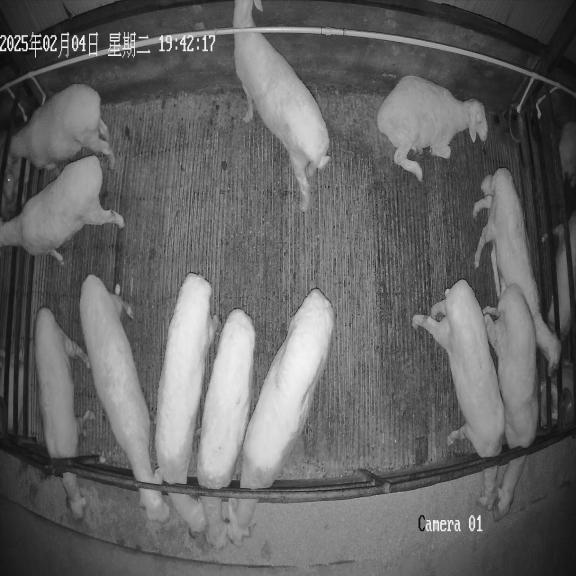eating: (227, 289, 334, 546), (80, 275, 169, 522), (413, 279, 504, 509), (155, 272, 218, 532), (197, 309, 255, 549), (483, 284, 538, 520), (34, 307, 94, 518)
lying: (473, 168, 560, 372), (377, 76, 488, 180)
stand: (233, 0, 329, 211), (0, 156, 124, 264), (9, 84, 115, 170)
